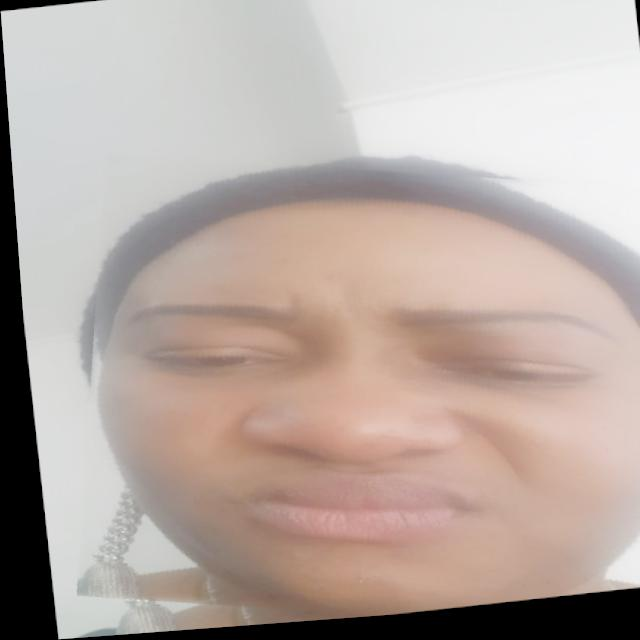sad: (42, 126, 640, 638)
